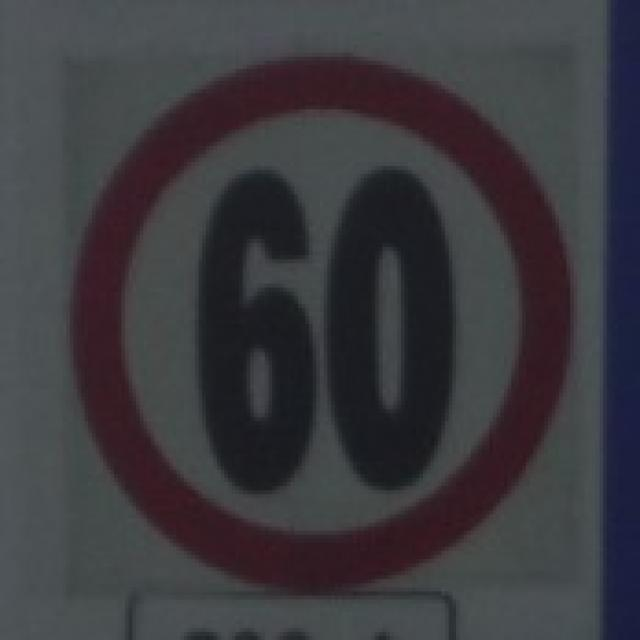Speed Limit -60-: (192, 157, 463, 498)
